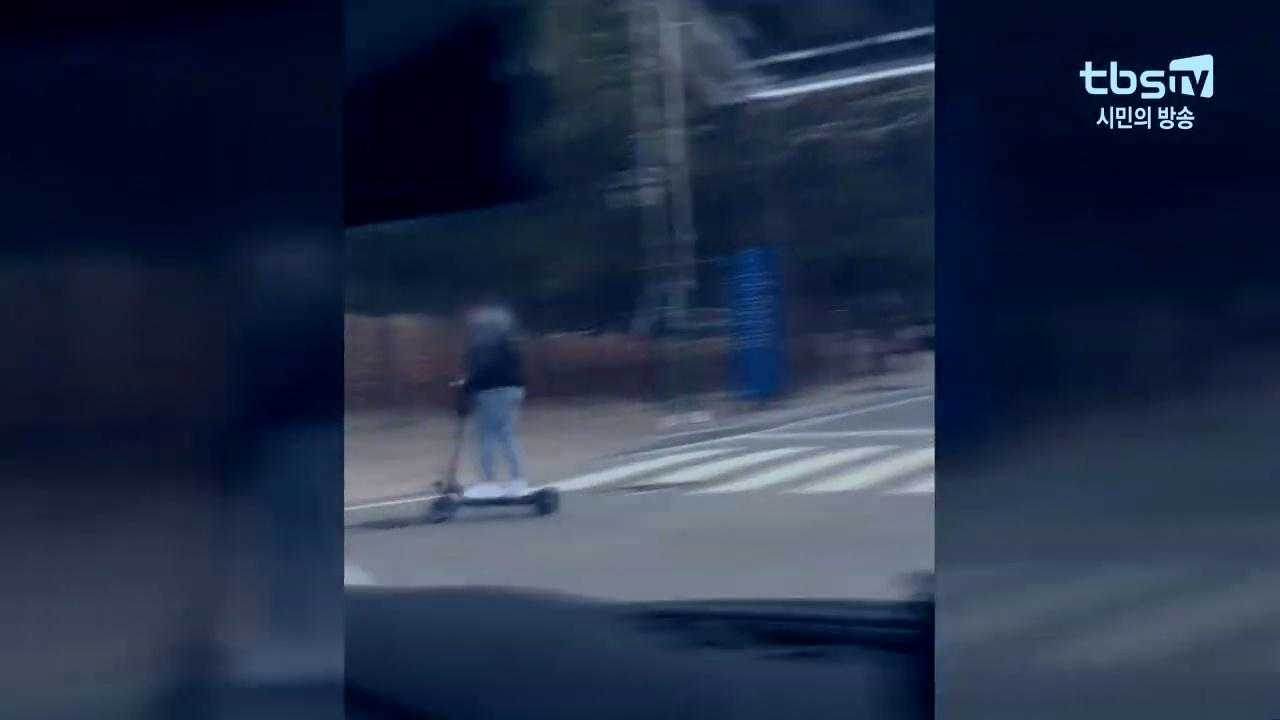nonhelmet: (419, 293, 569, 525)
